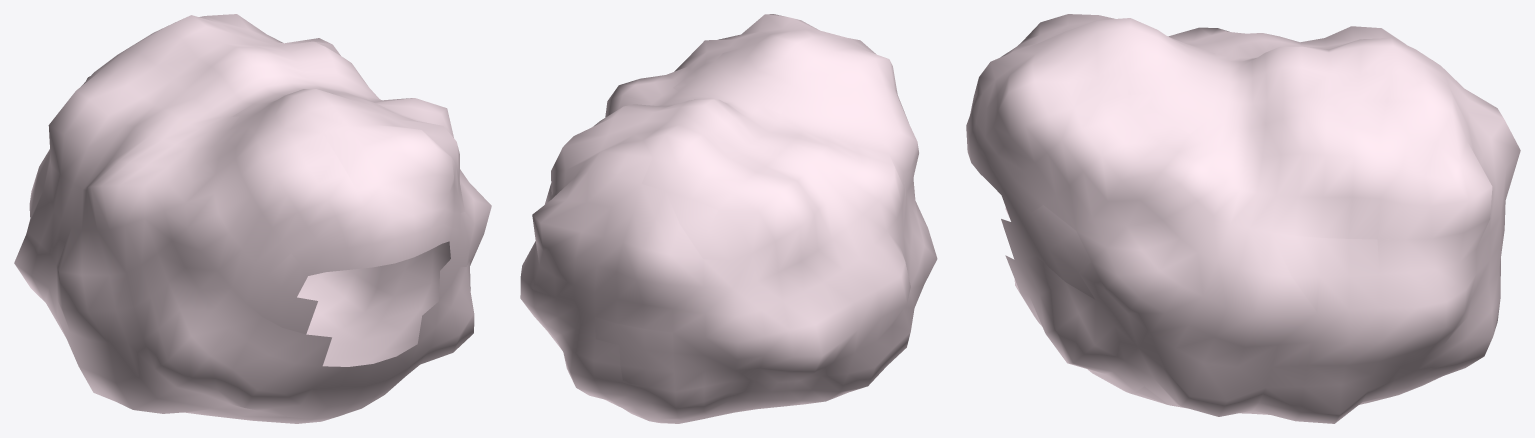
The picture shows the model from 3 angles, left to right: view 1: azimuth 30°, elevation 25°; view 2: azimuth 150°, elevation 25°; view 3: azimuth 270°, elevation 25°; orthographic projection. The views are drawn at different scales.
Visible parts, largest first — view 1: Wool.001, Wool; view 2: Wool.001, Wool; view 3: Wool.001, Wool.
Boxes of the visible parts, x1,y1,x2,y2 form: Wool.001: (14,14,491,419); Wool: (119,17,474,423); Wool.001: (520,14,937,420); Wool: (548,29,852,423); Wool.001: (976,14,1520,423); Wool: (966,18,1504,404).
Bounding box in the file's own units: 215 × 186 × 249.
